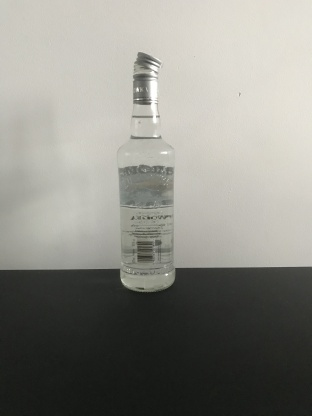nakretka: (131, 49, 162, 105)
